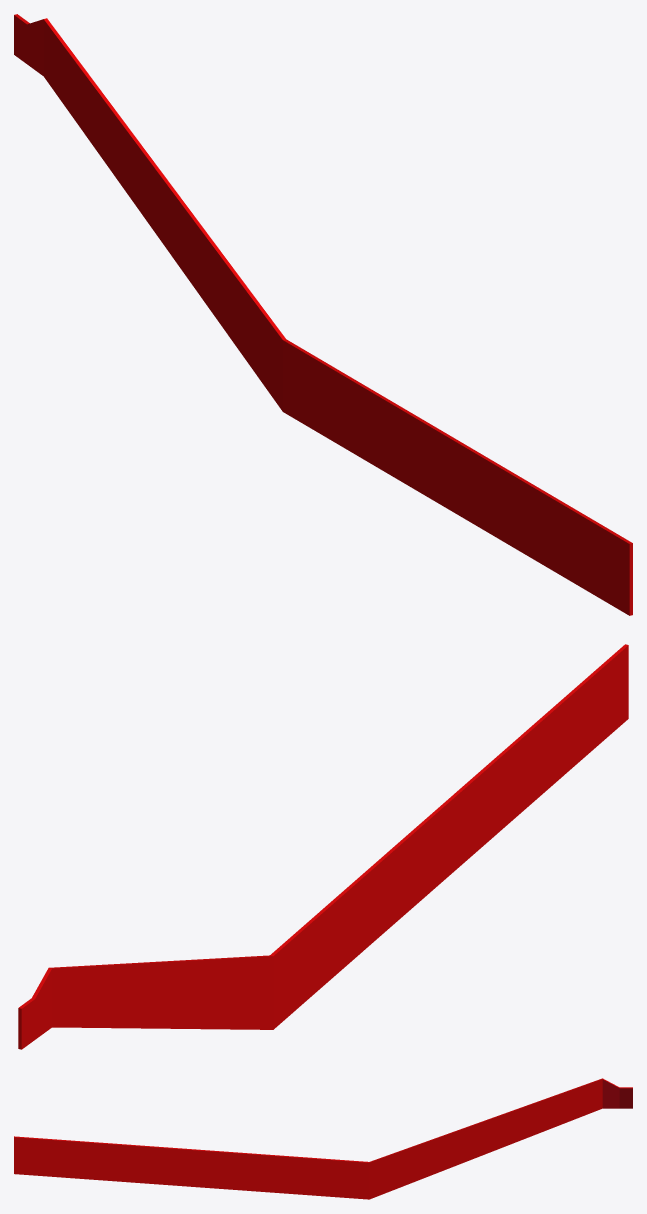
Rendered from wire_icon.fbx.
3 renders of one model, top to bottom at view 1: azimuth 30°, elevation 25°; view 2: azimuth 150°, elevation 25°; view 3: azimuth 270°, elevation 25°, orthographic. The views are drawn at different scales.
Parts seen in each view (by area): view 1: Cube; view 2: Cube; view 3: Cube.
Boxes of the visible parts, <box> form: Cube: <box>14,14,632,615</box>; Cube: <box>18,644,628,1049</box>; Cube: <box>14,1078,632,1199</box>.
Bounding box in the file's own units: 8.83 × 128 × 609.
